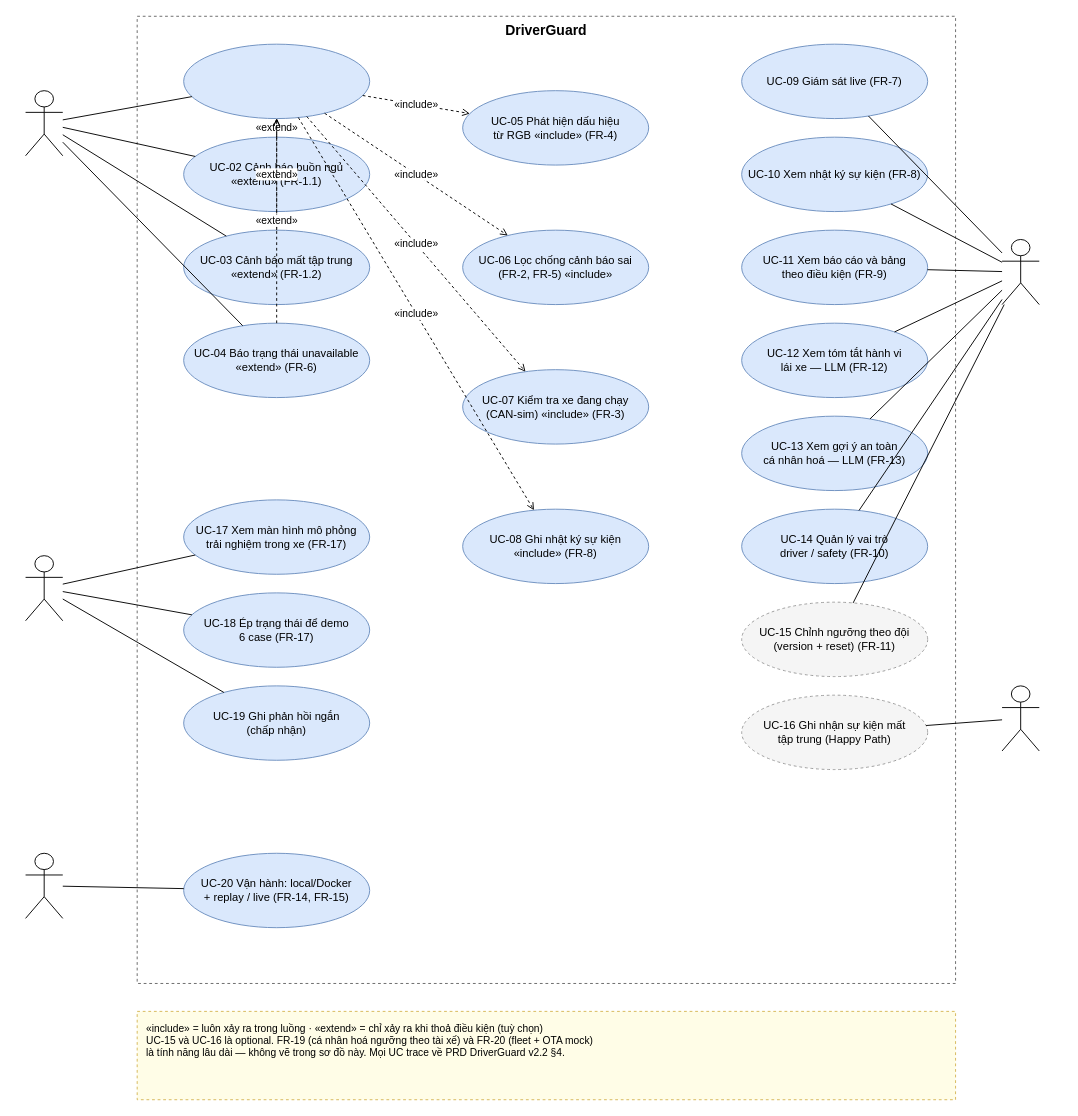
Some shapes in this 1078 by 1116 pixel diagram are drawn without their labels. The shapes that lost their labels are listed below. From the top down, each one's centre as x and y in pixels, then its label:
At point (276, 81): "UC-01 Nhận cảnh báo trong xe (3 trạng thái)".
At point (44, 123): "Tài xế".
At point (1020, 272): "Quản lý an toàn (fleet manager)".
At point (44, 588): "Người thử (demo)".
At point (1020, 718): "Tổng đài (optional)".
At point (44, 885): "Dev / Vận hành".
